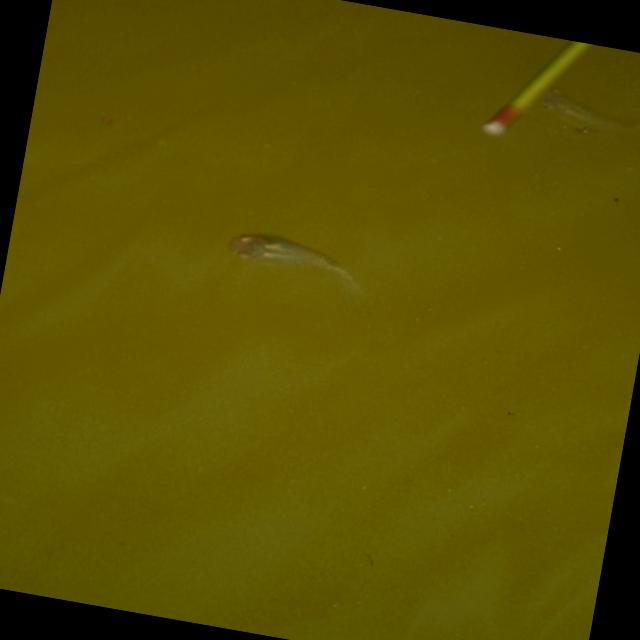Sivrisinek Baligi: (225, 218, 366, 294), (533, 83, 640, 157)
